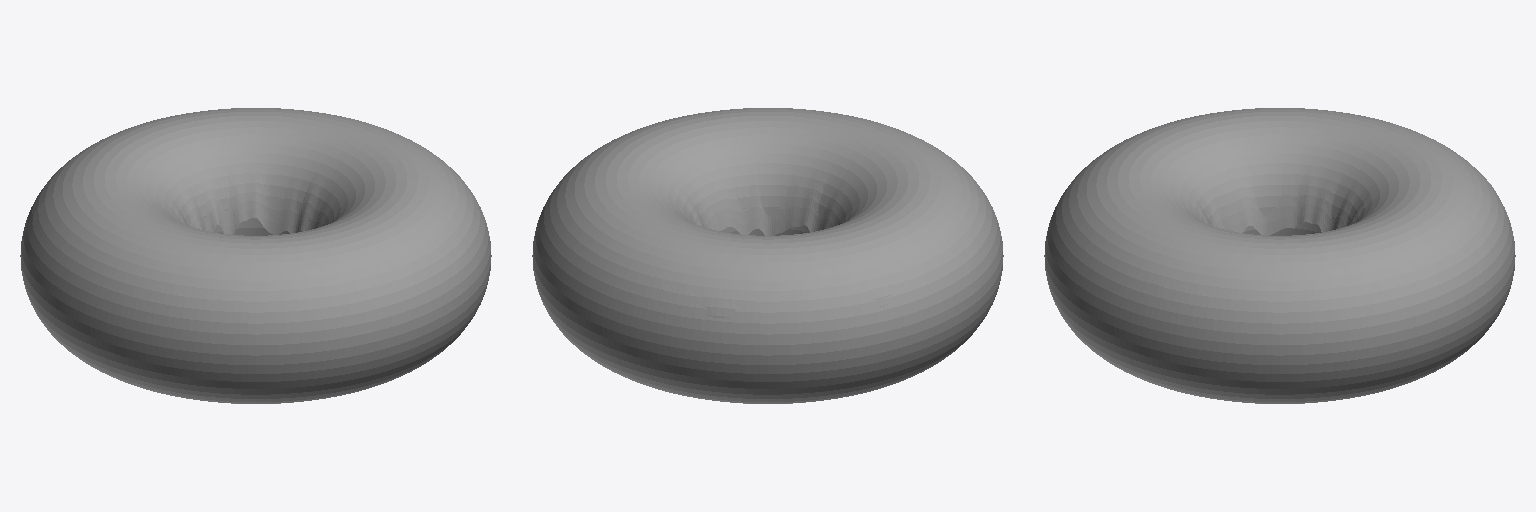
The model's file is first.obj.
The picture shows the model from 3 angles: view 1: azimuth 30°, elevation 25°; view 2: azimuth 150°, elevation 25°; view 3: azimuth 270°, elevation 25°; orthographic projection.
Parts seen in each view (by area): view 1: Torus.001; view 2: Torus.001; view 3: Torus.001.
Boxes of the visible parts, x1=… form: Torus.001: x1=20, y1=108, x2=491, y2=403; Torus.001: x1=532, y1=108, x2=1003, y2=403; Torus.001: x1=1044, y1=108, x2=1515, y2=403.
Size of the model in its own units: 3.1 by 1.11 by 3.1.